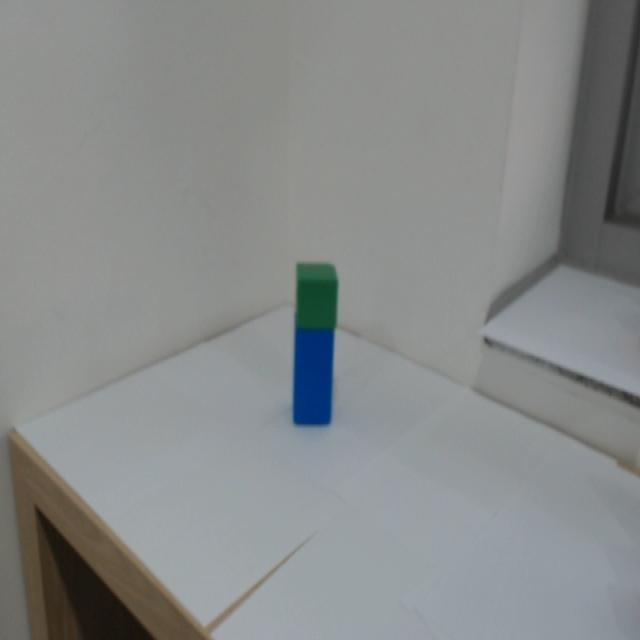cube: (288, 261, 348, 336)
